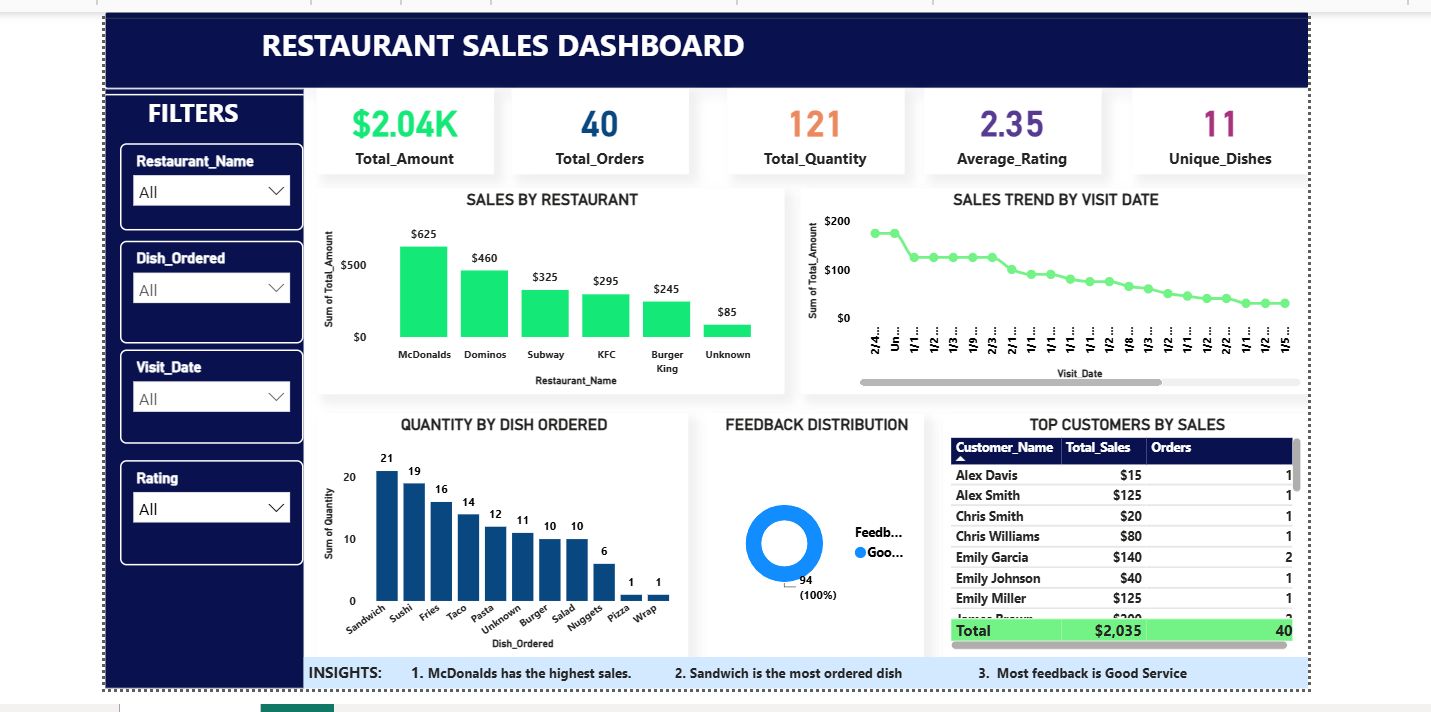

Layout of this report page (visuals, bound fields, positions):
{"tool":"powerbi","page":{"name":"Page 1","canvas":[1280,720],"ordinal":0},"visuals":[{"type":"textbox","box":[0,0,1281,81],"z":0},{"type":"card","fields":{"Values":["Sum(cleaned data.Total_Amount)"]},"box":[226.2,81,188.1,90.5],"z":1000},{"type":"card","fields":{"Values":["CountNonNull(cleaned data.Dish_Ordered)"]},"box":[433.3,81,188.1,90.5],"z":2000},{"type":"card","fields":{"Values":["Sum(cleaned data.Quantity)"]},"box":[661.9,81,188.1,90.5],"z":3000},{"type":"card","fields":{"Values":["Avg(cleaned data.Rating)"]},"box":[871.4,81,188.1,90.5],"z":4000},{"type":"card","fields":{"Values":["Count(cleaned data.Dish_Ordered)"]},"box":[1092.9,81,188.1,90.5],"z":5000},{"type":"textbox","box":[0,81,211.9,638.1],"z":6000},{"type":"slicer","fields":{"Values":["cleaned data.Restaurant_Name"]},"box":[16.7,140.5,195.2,92.9],"z":7000},{"type":"clusteredColumnChart","title":"SALES BY RESTAURANT","fields":{"Category":["cleaned data.Restaurant_Name"],"Y":["Sum(cleaned data.Total_Amount)"]},"box":[226.2,188.1,497.6,219],"z":8000},{"type":"clusteredColumnChart","title":"QUANTITY BY DISH ORDERED","fields":{"Category":["cleaned data.Dish_Ordered"],"Y":["Sum(cleaned data.Quantity)"]},"box":[226.2,426.2,395.2,259.5],"z":9000},{"type":"donutChart","title":"FEEDBACK DISTRIBUTION ","fields":{"Category":["cleaned data.Feedback"],"Y":["Sum(cleaned data.Rating)"]},"box":[640.5,426.2,231,259.5],"z":10000},{"type":"tableEx","title":"TOP CUSTOMERS BY SALES","fields":{"Values":["cleaned data.Customer_Name","Sum(cleaned data.Total_Amount)","cleaned data.Dish_Ordered"]},"box":[891.5,426.1,389,259.4],"z":11000},{"type":"lineChart","title":"SALES TREND BY VISIT DATE","fields":{"Category":["cleaned data.Visit_Date"],"Y":["Sum(cleaned data.Total_Amount)"]},"box":[740.5,188.1,540.5,219],"z":12000},{"type":"slicer","fields":{"Values":["cleaned data.Dish_Ordered"]},"box":[16.7,242.9,195.2,109.5],"z":13000},{"type":"slicer","fields":{"Values":["cleaned data.Visit_Date"]},"box":[16.7,359.5,195.2,100],"z":14000},{"type":"slicer","fields":{"Values":["cleaned data.Rating"]},"box":[16.7,476.2,195.2,111.9],"z":15000},{"type":"textbox","box":[211.9,685.7,1069,33.3],"z":16000}]}

Visuals, with their boxes in screenshot pixels (x1, y1, x2, y2):
textbox: box(101, 7, 1305, 84)
card - Sum(cleaned data.Total_Amount): box(313, 84, 490, 169)
card - CountNonNull(cleaned data.Dish_Ordered): box(508, 84, 685, 169)
card - Sum(cleaned data.Quantity): box(723, 84, 900, 169)
card - Avg(cleaned data.Rating): box(920, 84, 1097, 169)
card - Count(cleaned data.Dish_Ordered): box(1128, 84, 1305, 169)
textbox: box(101, 84, 300, 684)
slicer - cleaned data.Restaurant_Name: box(116, 140, 300, 227)
"SALES BY RESTAURANT" clusteredColumnChart: box(313, 184, 781, 390)
"QUANTITY BY DISH ORDERED" clusteredColumnChart: box(313, 408, 685, 652)
"FEEDBACK DISTRIBUTION " donutChart: box(703, 408, 920, 652)
"TOP CUSTOMERS BY SALES" tableEx: box(939, 408, 1305, 652)
"SALES TREND BY VISIT DATE" lineChart: box(797, 184, 1305, 390)
slicer - cleaned data.Dish_Ordered: box(116, 236, 300, 339)
slicer - cleaned data.Visit_Date: box(116, 346, 300, 440)
slicer - cleaned data.Rating: box(116, 455, 300, 560)
textbox: box(300, 652, 1305, 684)
